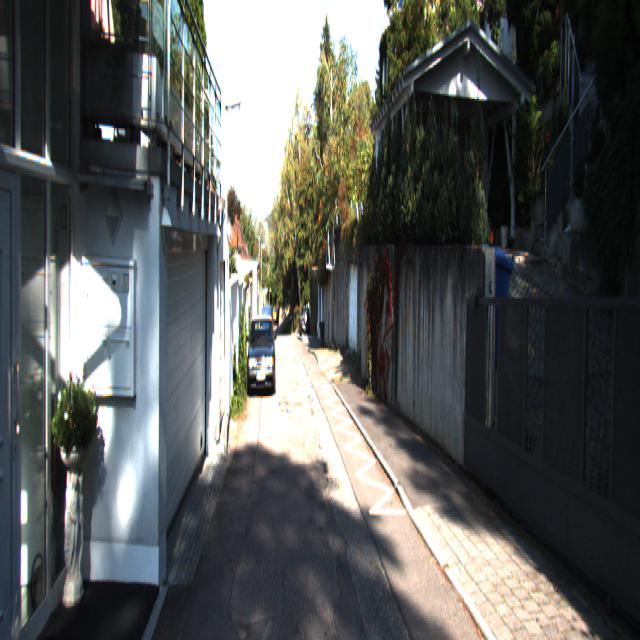Car: (247, 313, 276, 399)
